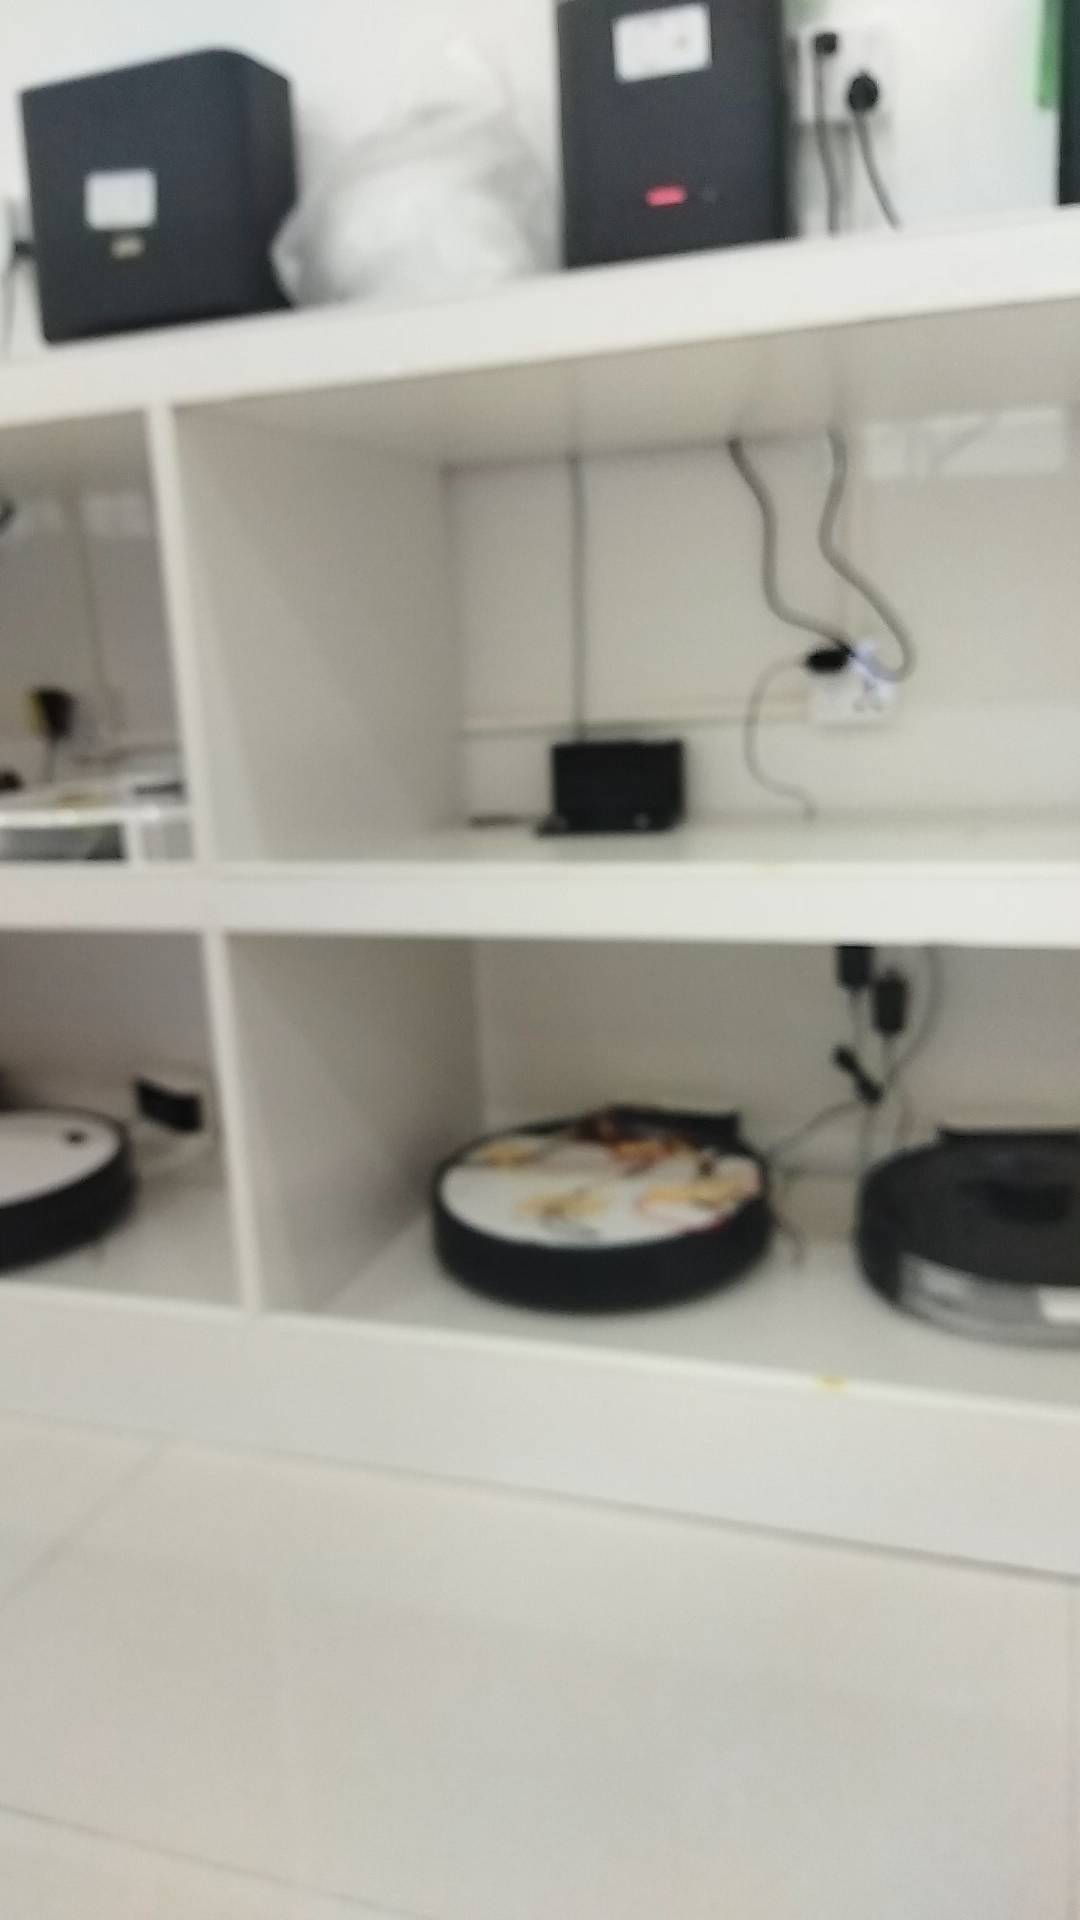dust collecting barrel: (22, 51, 295, 342), (556, 1, 793, 269)
recharge seat: (537, 731, 688, 839), (104, 1069, 218, 1176)
